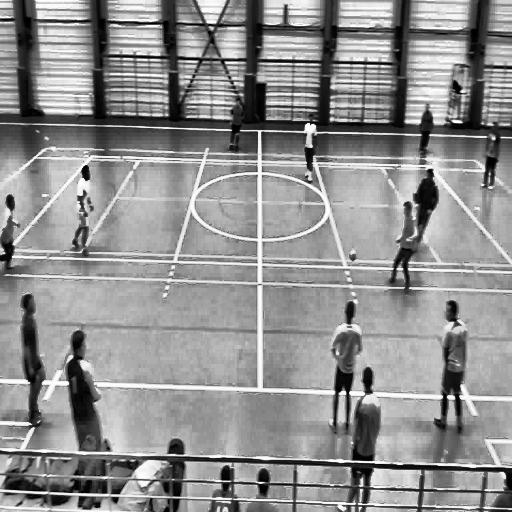ball: (348, 246, 358, 264)
player: (337, 366, 381, 512), (326, 298, 364, 440), (432, 297, 470, 438), (64, 326, 101, 452), (18, 289, 49, 435), (388, 202, 419, 299), (70, 163, 94, 267), (415, 168, 440, 254), (0, 192, 22, 280), (480, 118, 504, 193), (302, 114, 320, 185), (416, 101, 436, 160), (227, 94, 244, 157)
